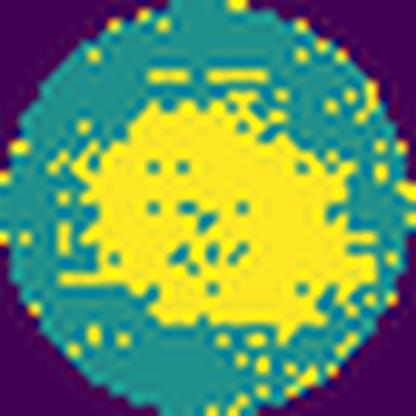Center: (69, 100, 375, 326)
